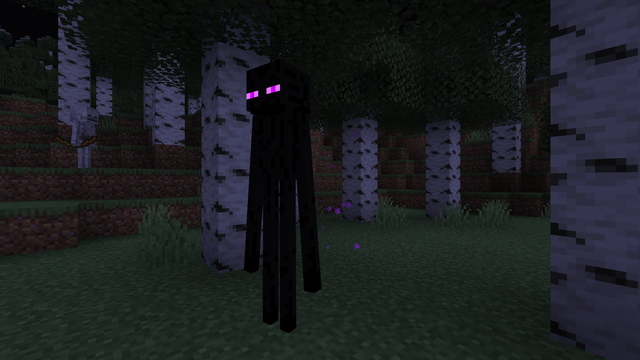endermens: (242, 46, 316, 349)
squelettes: (71, 104, 96, 168)
